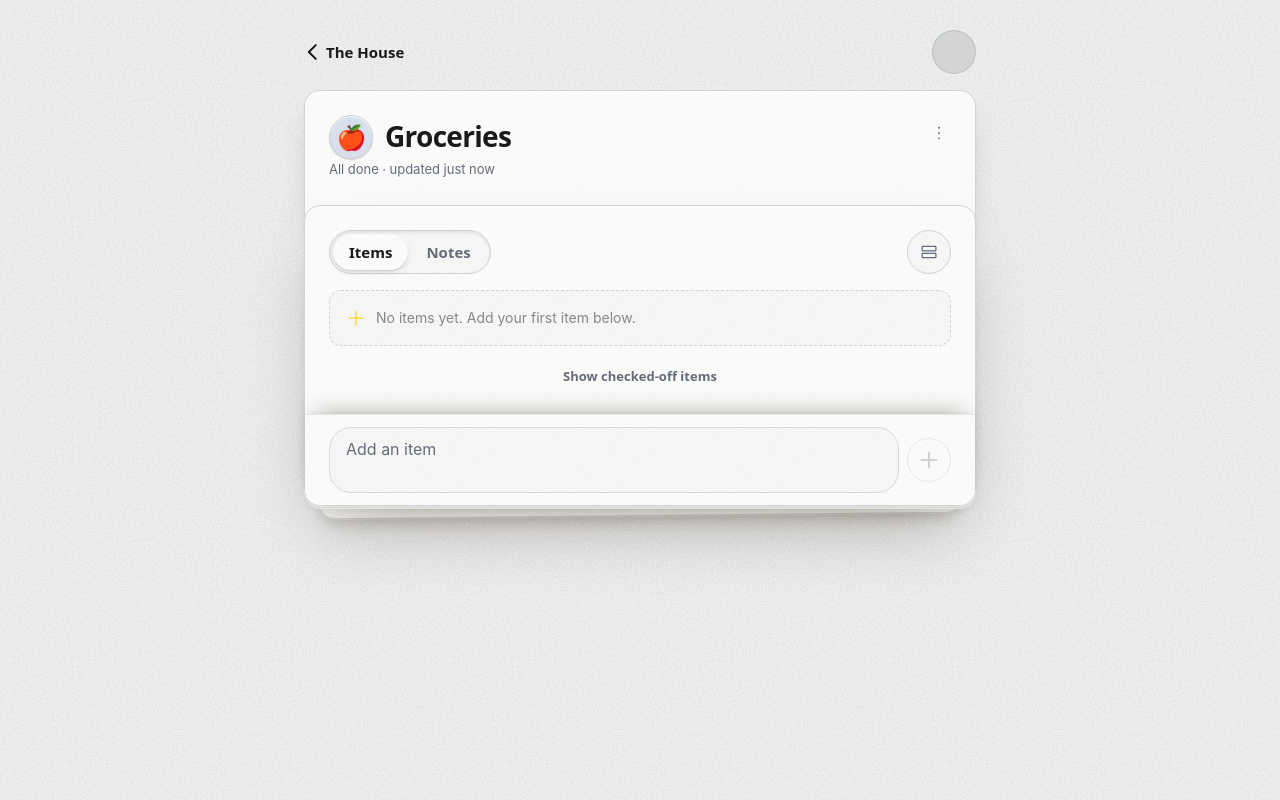
Test: ListPage notes › keeps words typed while a save is still in flight
Click the tab "Notes" at {"x": 449, "y": 252}, box x1=410 y1=234 x2=487 y2=270
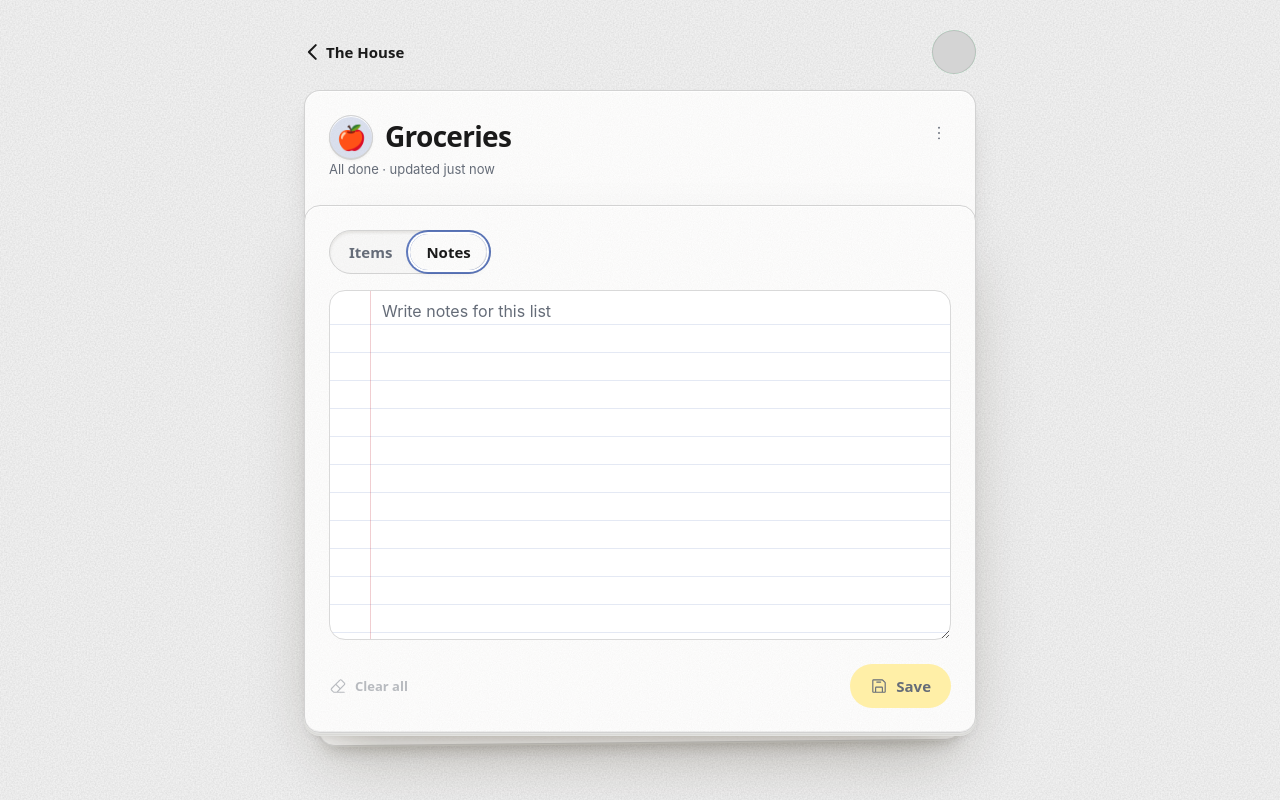
Type "Buy oat milk" into the text box with placeholder "Write notes for this list" at {"x": 640, "y": 465}, box x1=329 y1=290 x2=951 y2=640
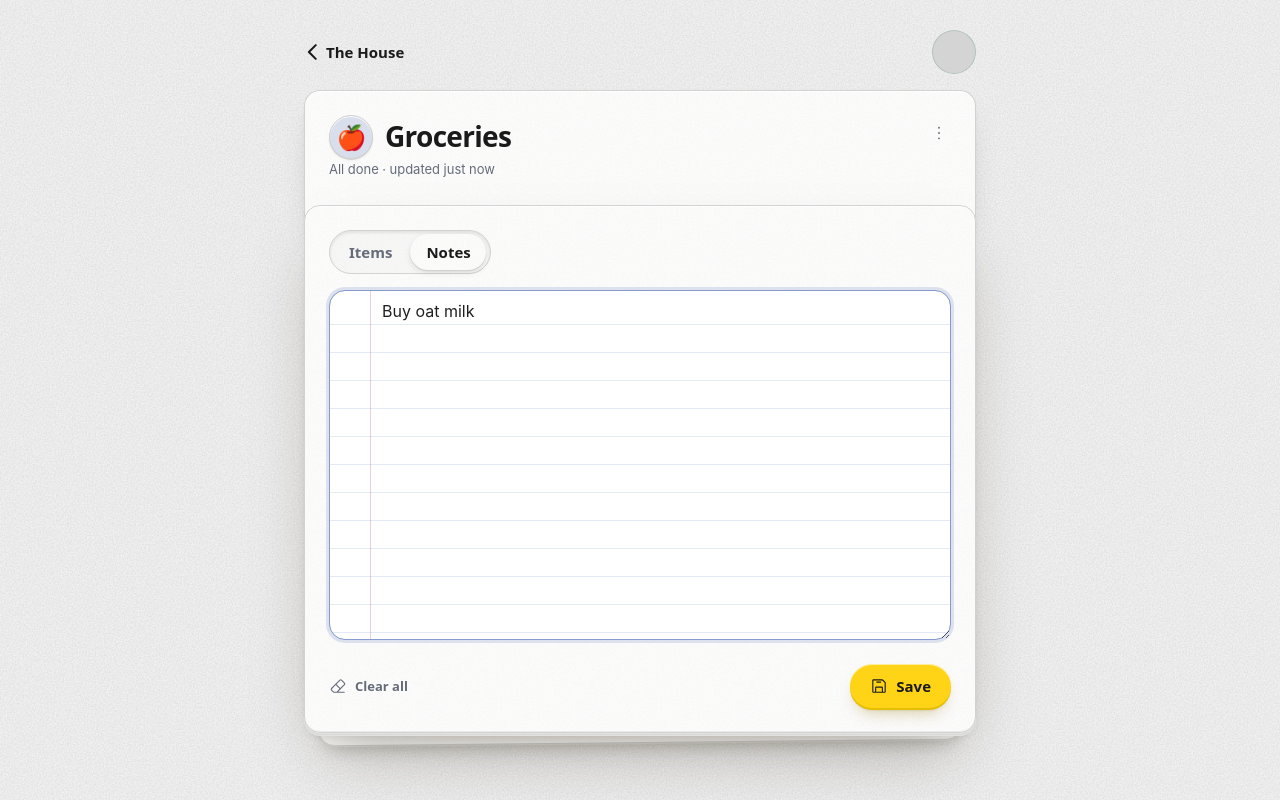
Click the button "Save" at {"x": 901, "y": 686}, box x1=850 y1=664 x2=951 y2=708
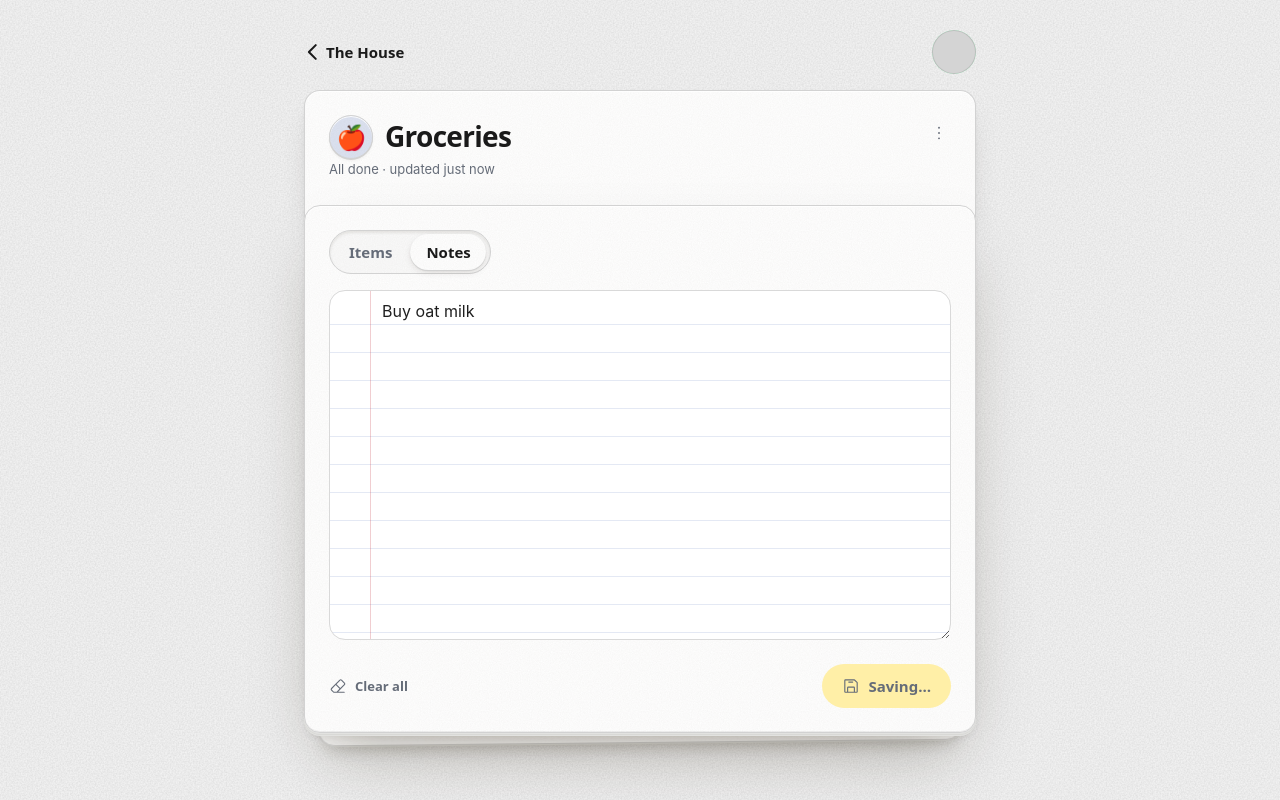
Type " and eggs" into the text box with placeholder "Write notes for this list" at {"x": 640, "y": 465}, box x1=329 y1=290 x2=951 y2=640
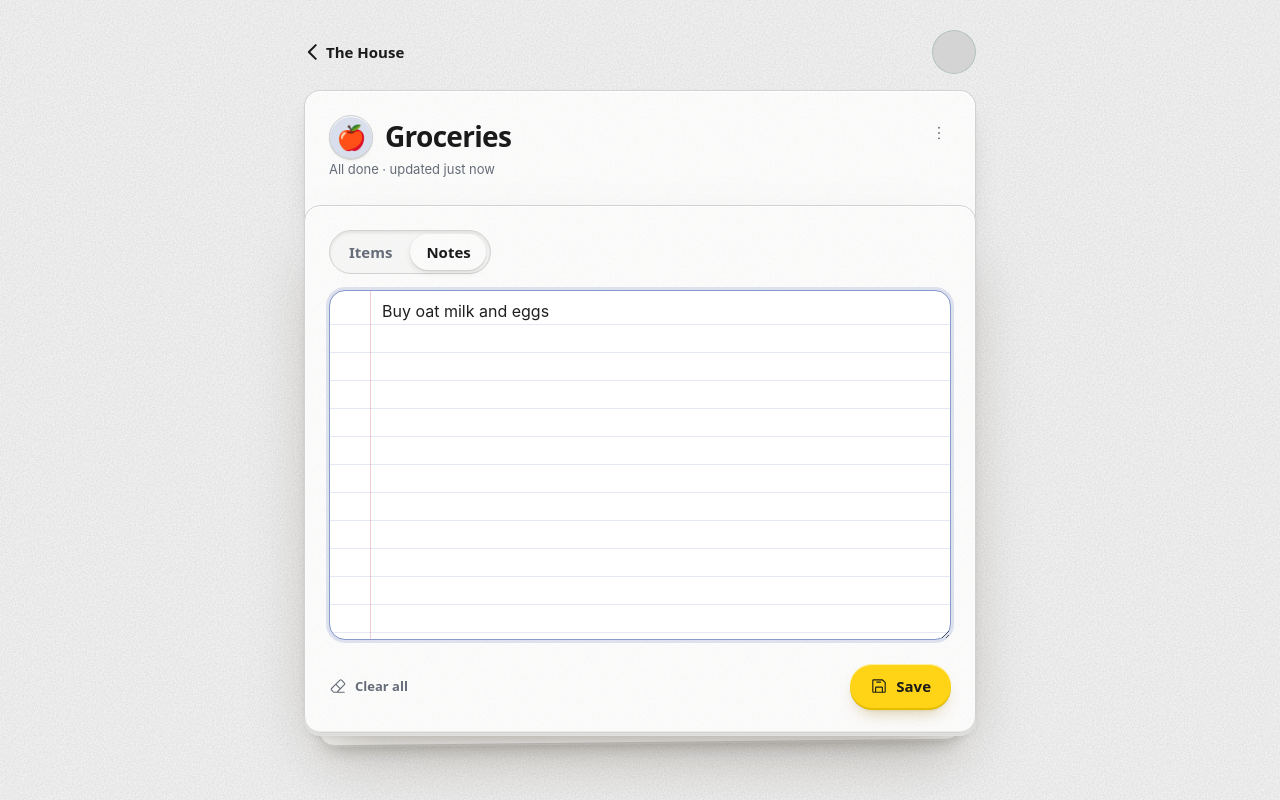
Check: the button "Save" is enabled, box x1=850 y1=664 x2=951 y2=708
Check: the text box with placeholder "Write notes for this list" holds "Buy oat milk and eggs", box x1=329 y1=290 x2=951 y2=640
